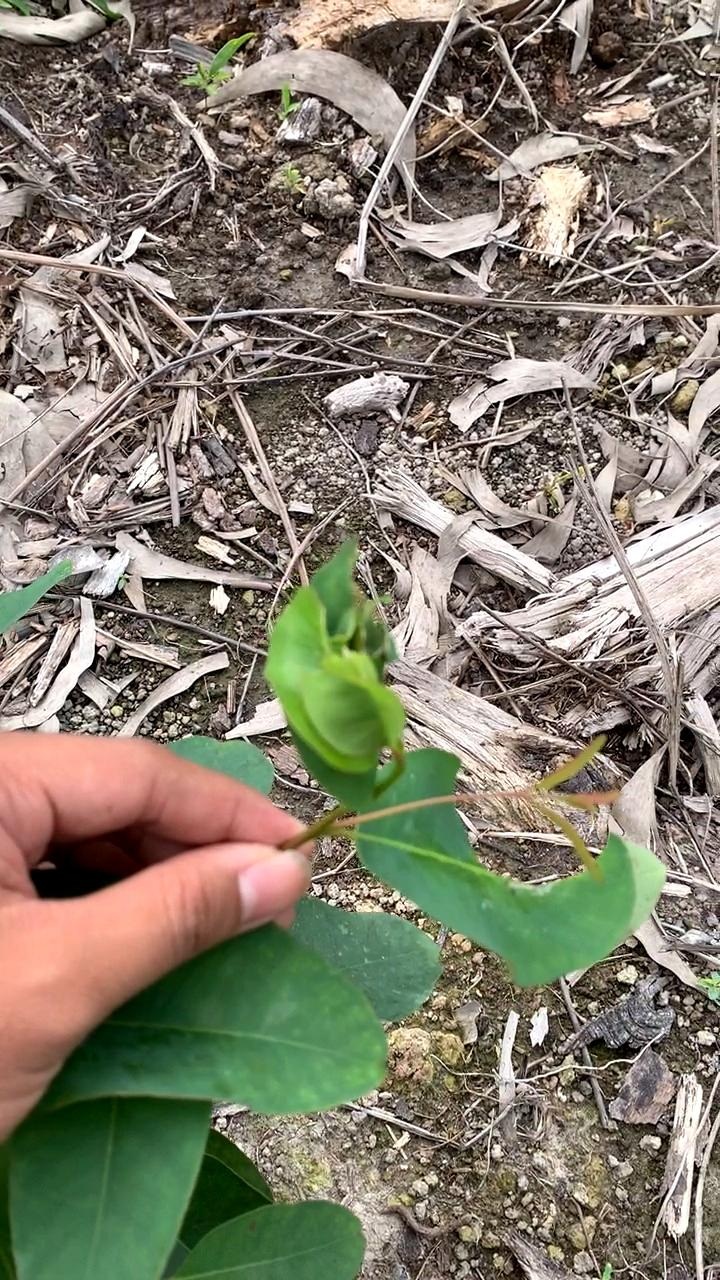Leaf Roller - Leaf: (251, 533, 432, 820)
